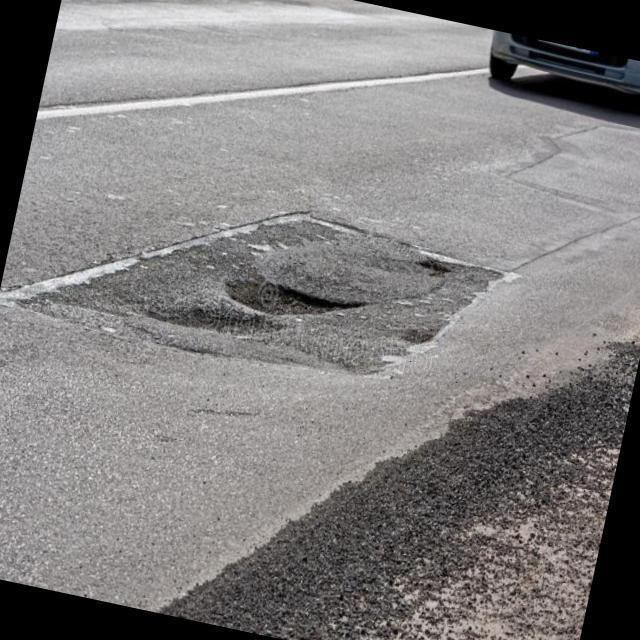Pothole: (216, 280, 368, 325), (183, 309, 211, 325)
